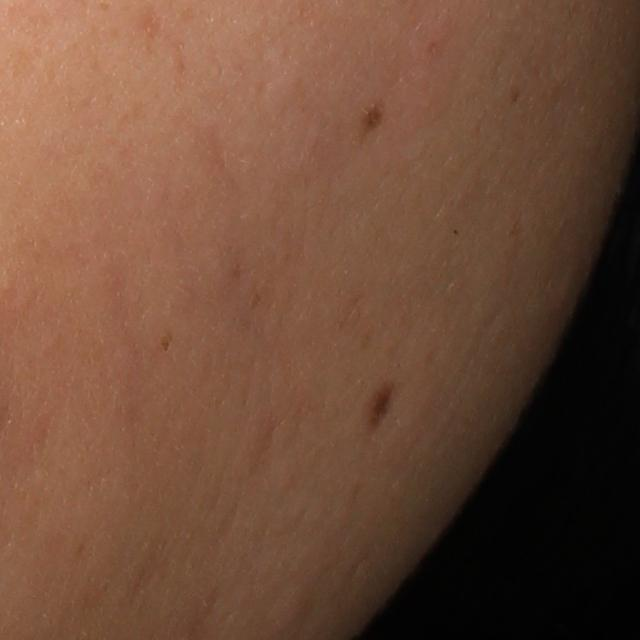nevus: (366, 380, 399, 431), (359, 102, 387, 137)
